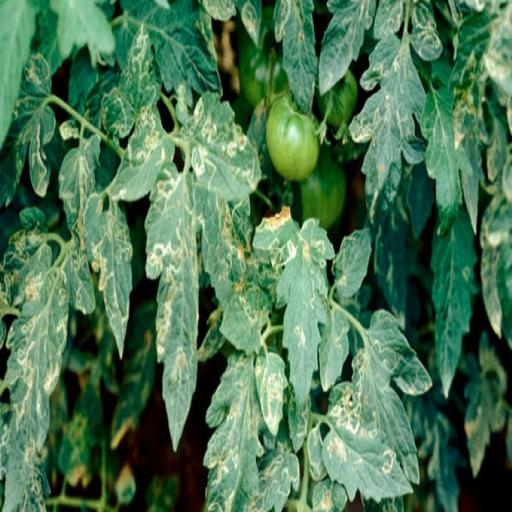Leaf_Miner: (108, 97, 258, 453), (253, 213, 335, 410), (3, 271, 69, 512), (189, 183, 272, 357), (348, 32, 428, 203), (363, 311, 431, 489), (204, 357, 265, 512), (325, 397, 412, 501), (87, 210, 133, 360), (102, 28, 160, 146), (57, 123, 101, 260), (319, 0, 374, 96), (273, 0, 319, 113), (246, 426, 301, 512), (1, 230, 55, 311), (332, 229, 372, 301), (320, 303, 349, 389), (257, 352, 286, 437)
